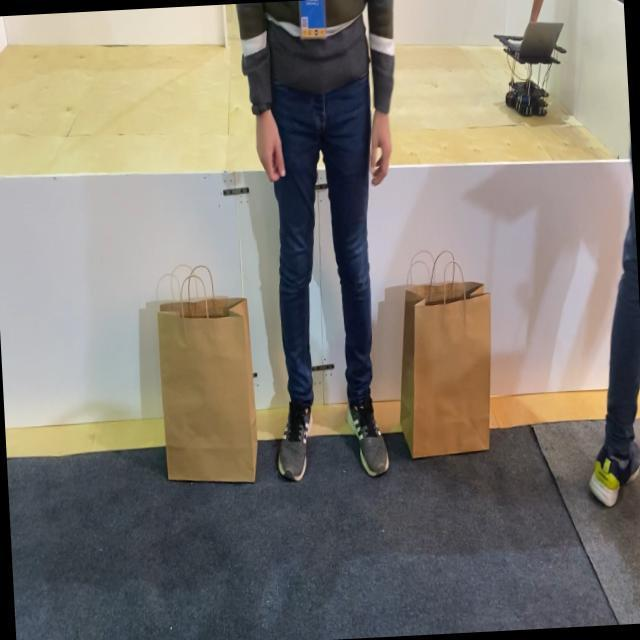Paper_Bag: (155, 262, 259, 488), (391, 248, 499, 460)
